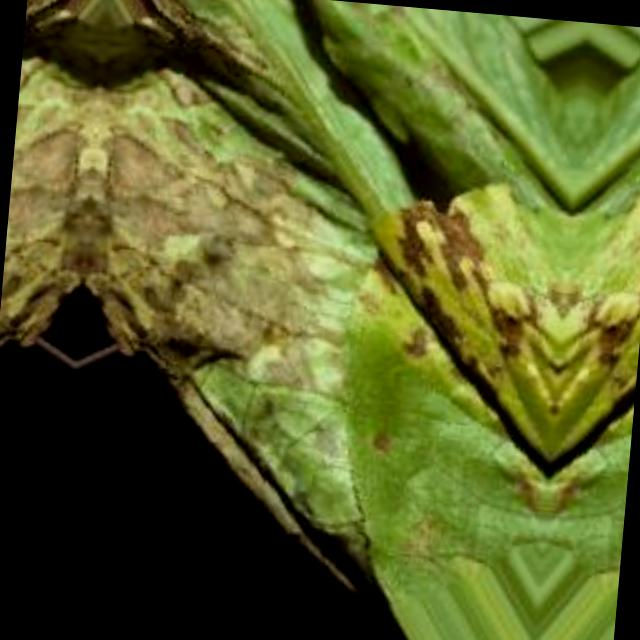Septoria_Blight: (74, 67, 335, 386), (0, 60, 100, 366), (373, 198, 537, 362), (590, 216, 640, 371)
